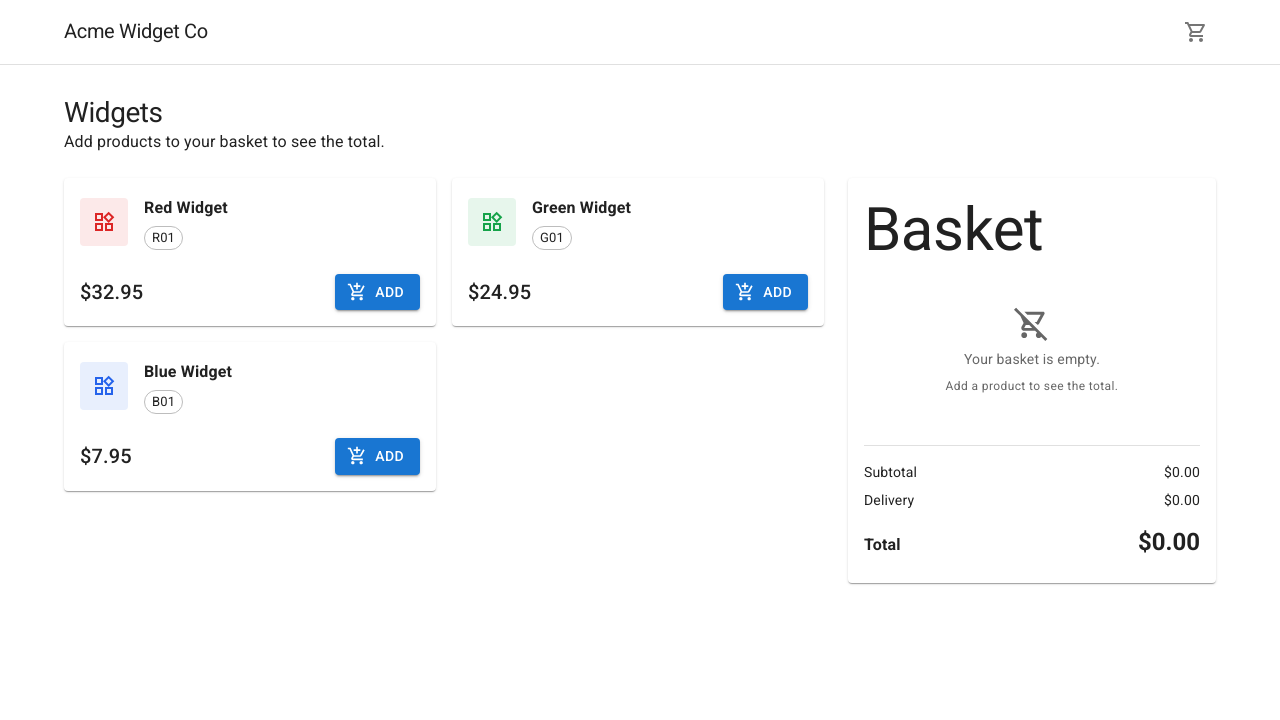
Test: BasketPage › shows the price breakdown returned by the API and does not compute it locally
This screenshot has width=1280, height=720.
Click the button "Add" in the row of "$32.95" at point(378, 292), box [335,274,420,310]
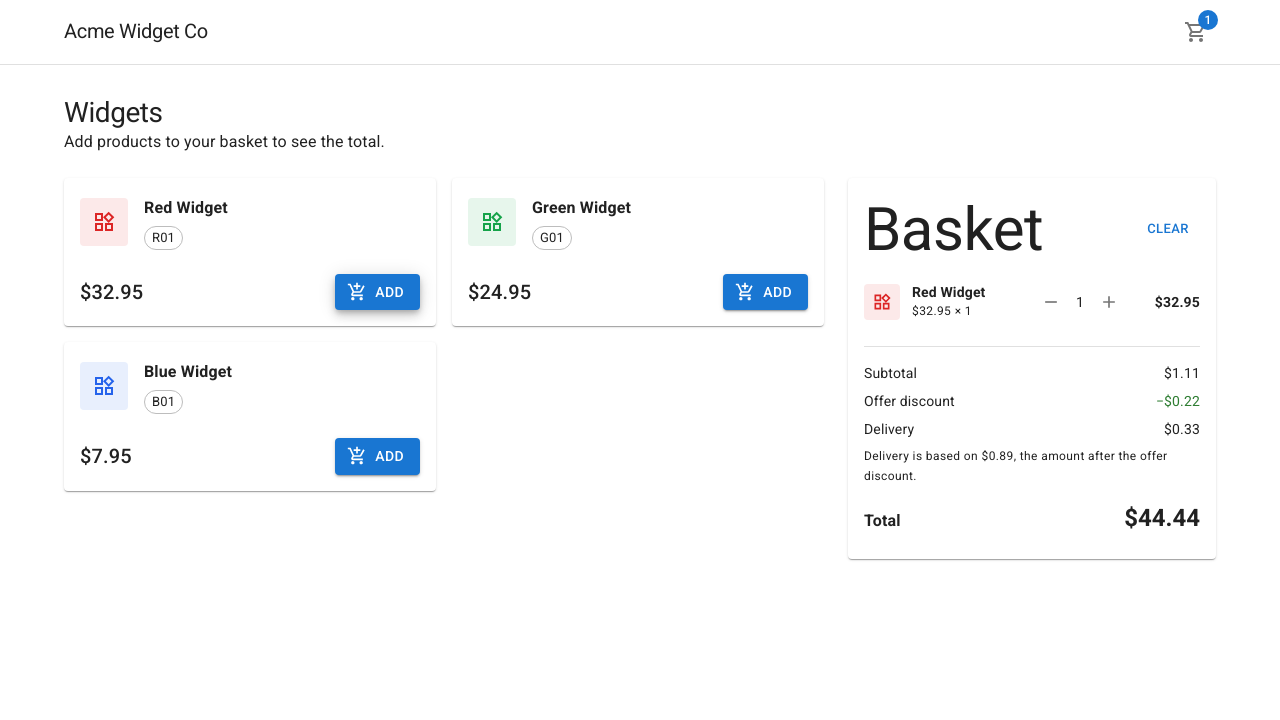
Expected: the text "$44.44" is shown, [1124,502,1200,534]
Expected: the text "−$0.22" is shown, [1156,391,1200,411]
Expected: the text "$0.33" is shown, [1164,419,1200,439]
